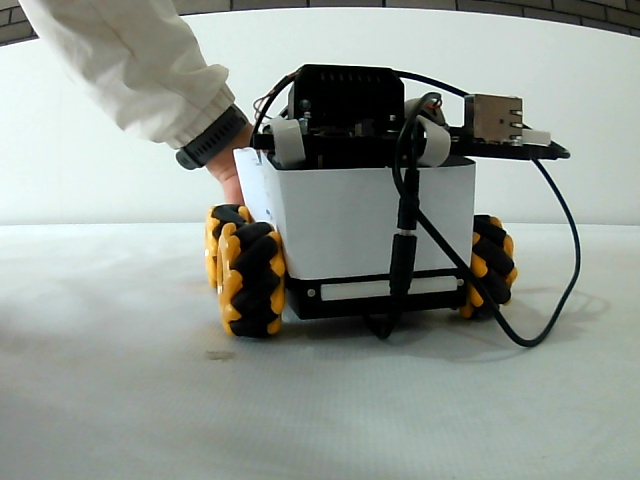car: (204, 61, 523, 340)
paper: (272, 165, 470, 267)
